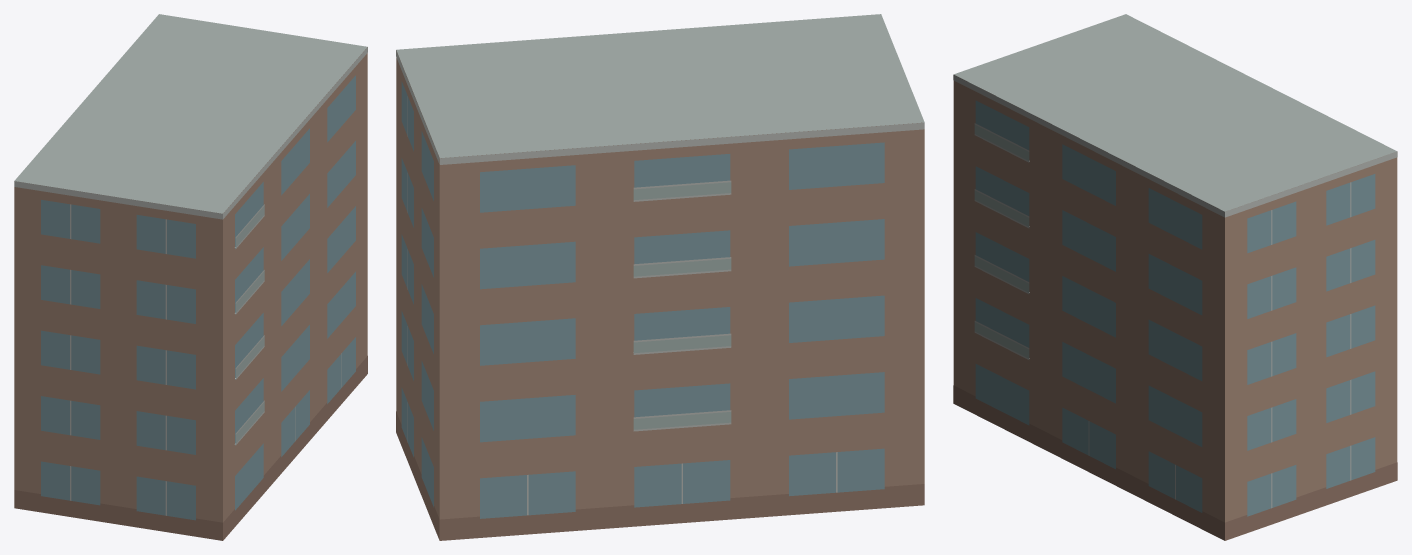
The model's file is survey-upis-32725036.glb.
The picture shows the model from 3 angles, left to right: view 1: azimuth 30°, elevation 25°; view 2: azimuth 150°, elevation 25°; view 3: azimuth 270°, elevation 25°; orthographic projection. The views are drawn at different scales.
Visible parts, largest first — view 1: survey-upis-32725036.tmp; view 2: survey-upis-32725036.tmp; view 3: survey-upis-32725036.tmp.
Boxes of the visible parts, <box> form: survey-upis-32725036.tmp: <box>14,14,367,540</box>; survey-upis-32725036.tmp: <box>396,14,924,540</box>; survey-upis-32725036.tmp: <box>953,14,1397,540</box>.
Size of the model in its own units: 17.53 by 13.6 by 16.63.
